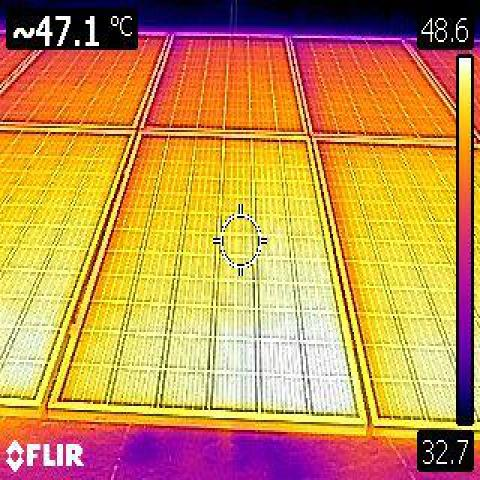fault: (213, 290, 344, 411)
